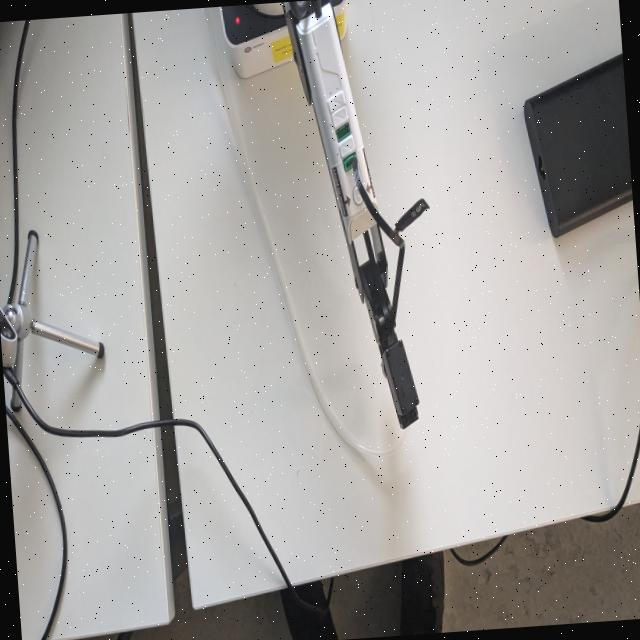Robot-end-effector-HF8z: (372, 334, 424, 434)
